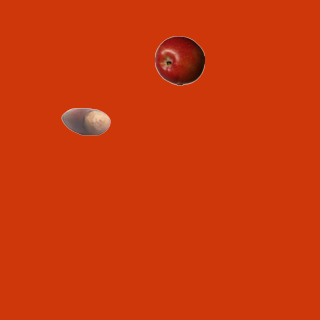Apple Braeburn: (154, 35, 204, 85)
Hazelnut: (60, 96, 110, 146)
